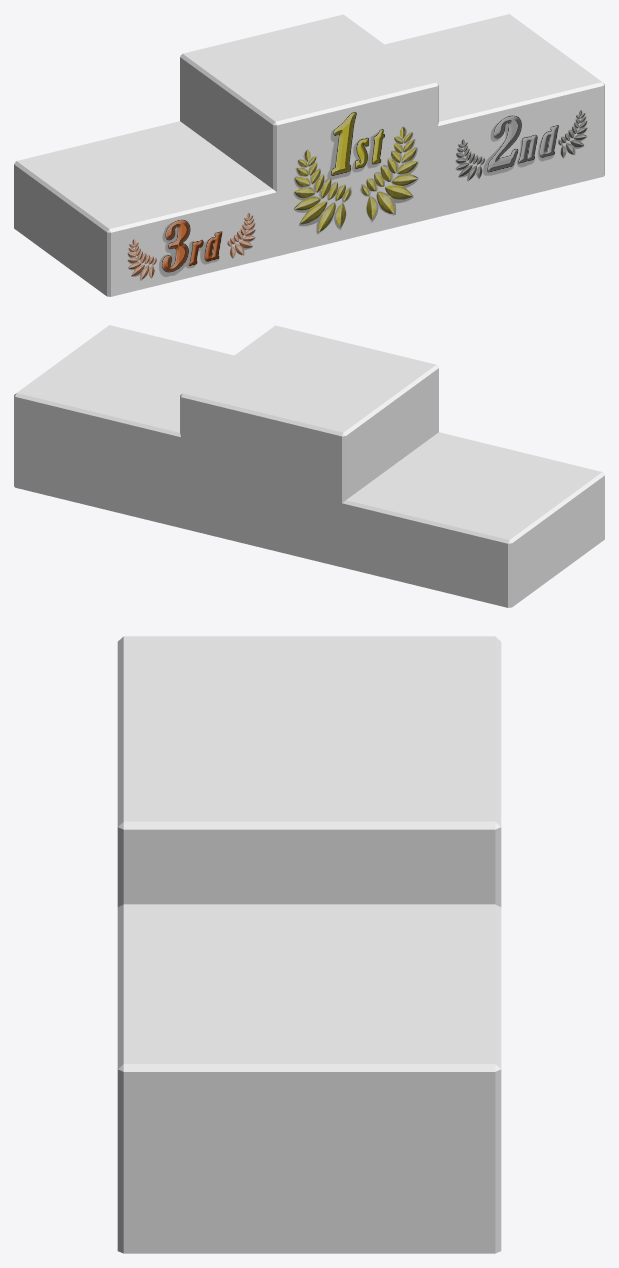
File: Gs_Podium.fbx
The picture shows the model from 3 angles, top to bottom: view 1: azimuth 30°, elevation 25°; view 2: azimuth 150°, elevation 25°; view 3: azimuth 270°, elevation 25°; orthographic projection. The views are drawn at different scales.
Parts seen in each view (by area): view 1: Podium; view 2: Podium; view 3: Podium.
Part boxes in pixels (bbox=[...]): Podium: bbox=[14, 14, 604, 296]; Podium: bbox=[14, 325, 604, 607]; Podium: bbox=[117, 636, 501, 1253].
Size of the model in its own units: 390 by 100 by 130.
